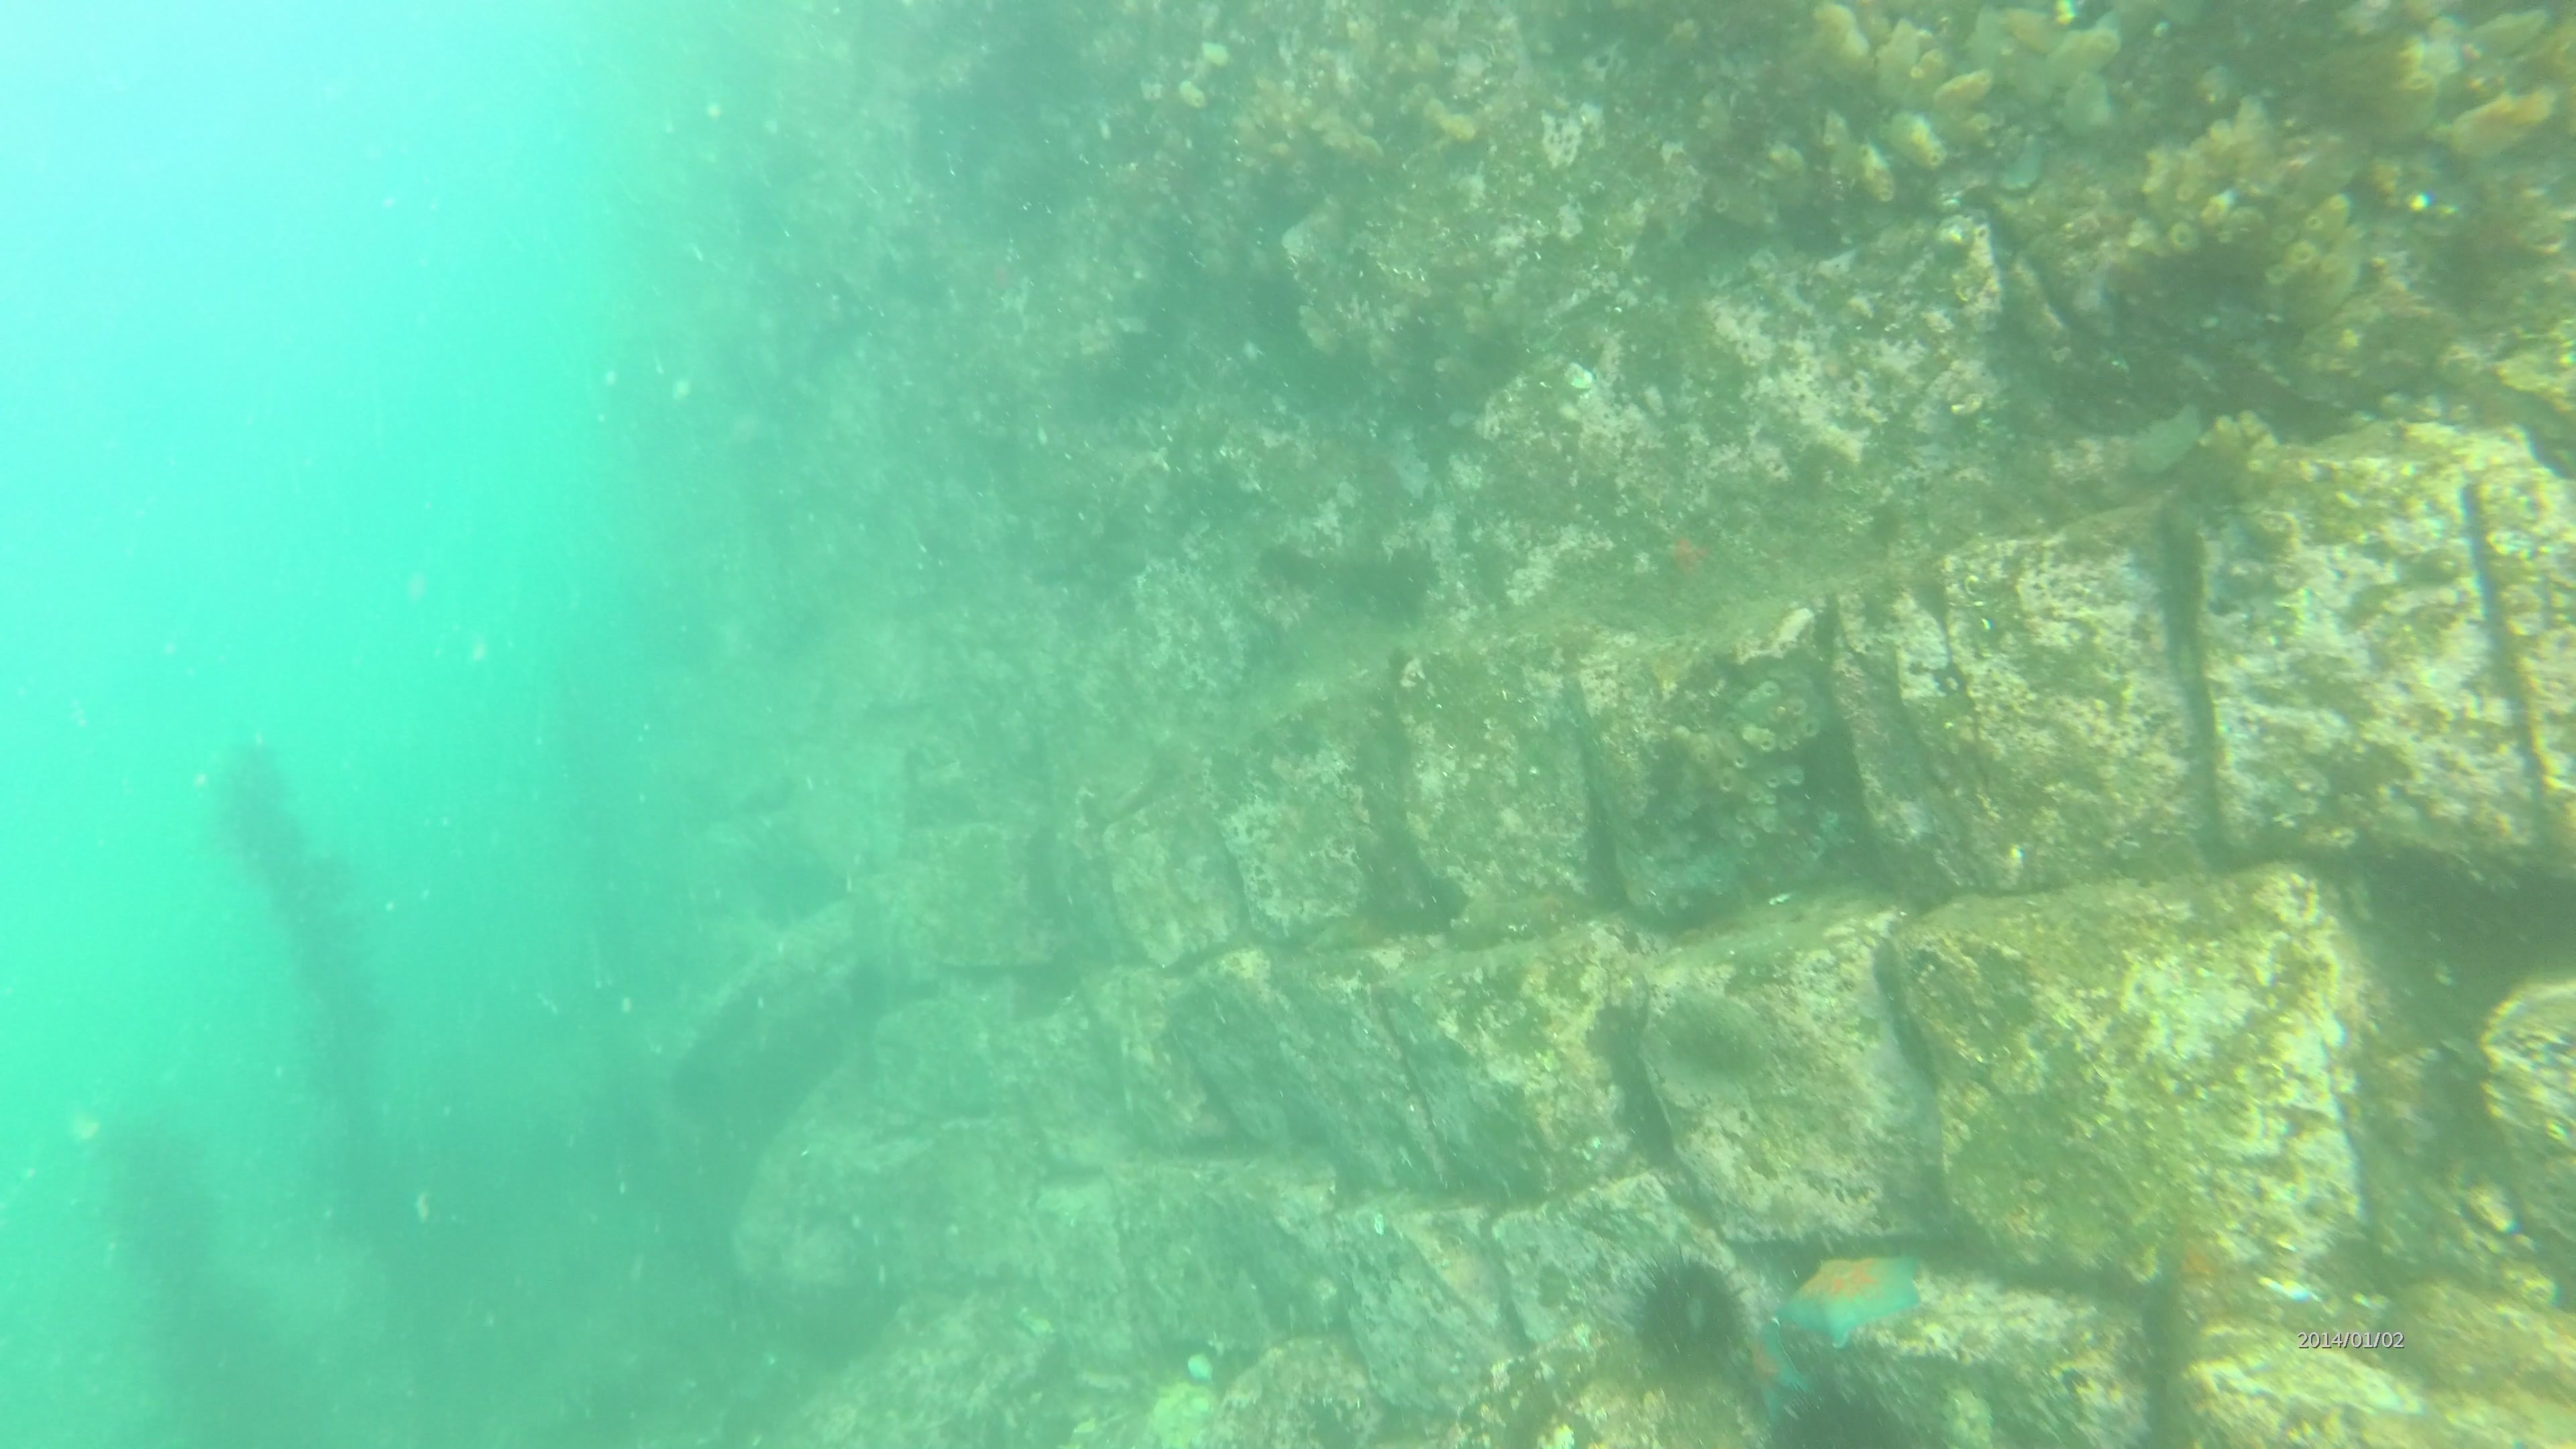echinus: (1617, 1247, 1755, 1387)
starfish: (1773, 1237, 1934, 1355), (1730, 1311, 1817, 1424)
